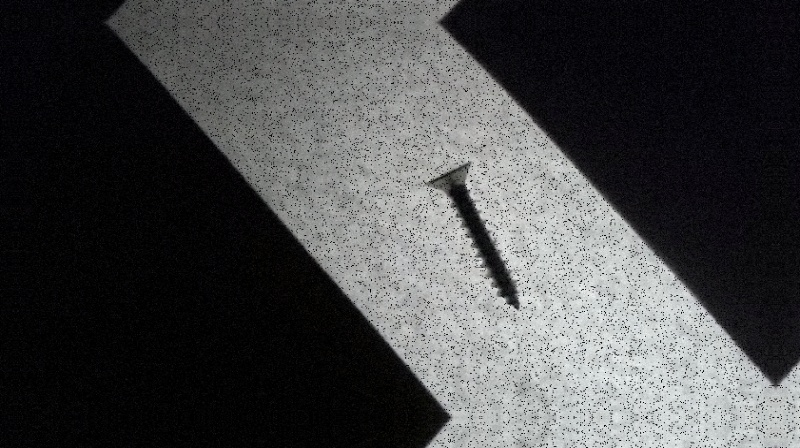S001: (421, 159, 523, 312)
